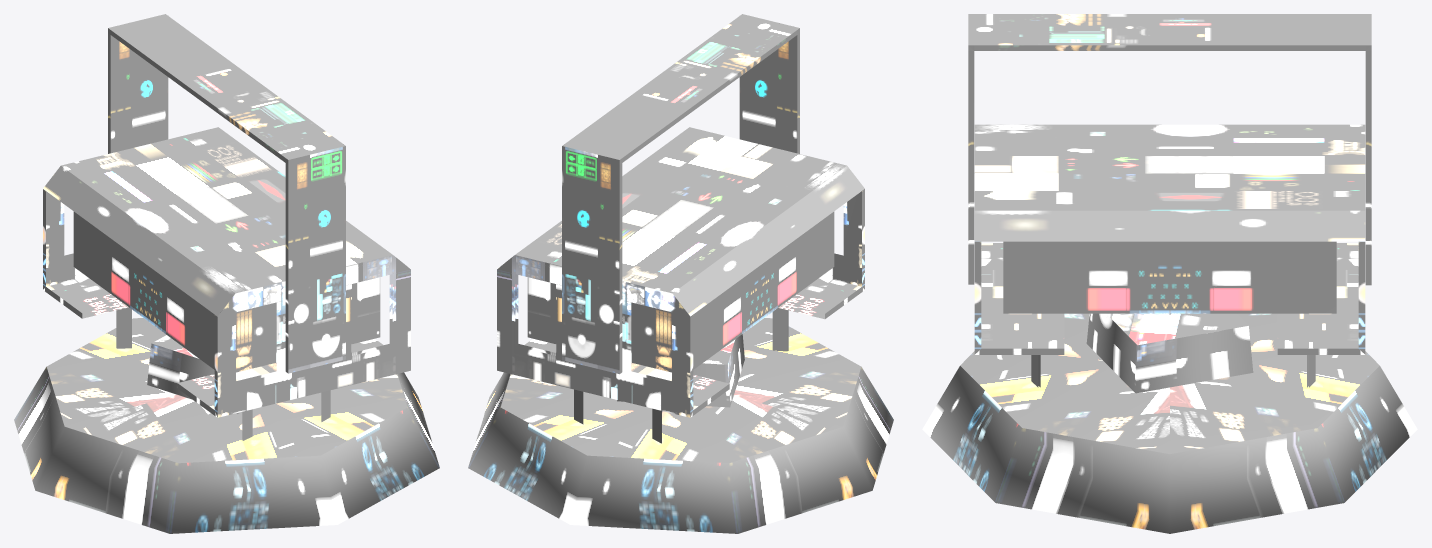
The model's file is SM_H_FutureTech_Lighting_DecorativeLamp_05_ATLAS.fbx.
The picture shows the model from 3 angles, left to right: view 1: azimuth 30°, elevation 25°; view 2: azimuth 150°, elevation 25°; view 3: azimuth 270°, elevation 25°; orthographic projection. The views are drawn at different scales.
Visible parts, largest first — view 1: SM_H_FutureTech_Lighting_DecorativeLamp_05_ATLAS; view 2: SM_H_FutureTech_Lighting_DecorativeLamp_05_ATLAS; view 3: SM_H_FutureTech_Lighting_DecorativeLamp_05_ATLAS.
Boxes of the visible parts, bbox=[...] form: SM_H_FutureTech_Lighting_DecorativeLamp_05_ATLAS: bbox=[14, 14, 439, 533]; SM_H_FutureTech_Lighting_DecorativeLamp_05_ATLAS: bbox=[468, 14, 893, 533]; SM_H_FutureTech_Lighting_DecorativeLamp_05_ATLAS: bbox=[922, 14, 1417, 533].
Size of the model in its own units: 43.78 by 43.78 by 38.95.
